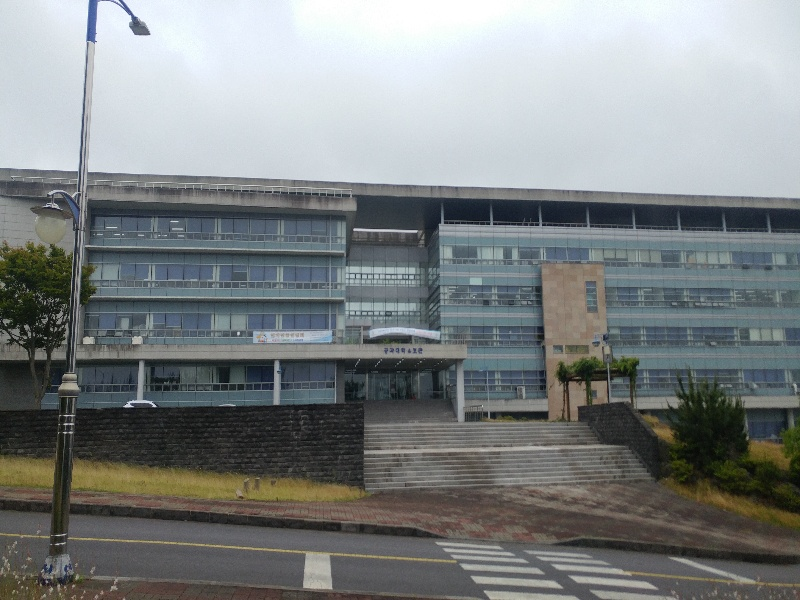Engineering College Building 4: (11, 168, 799, 411), (440, 186, 789, 398), (375, 341, 433, 362)
